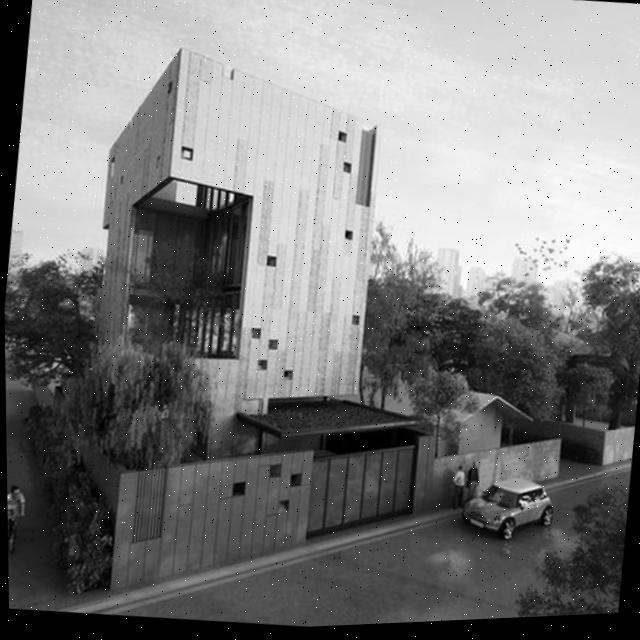building: (76, 31, 396, 469)
